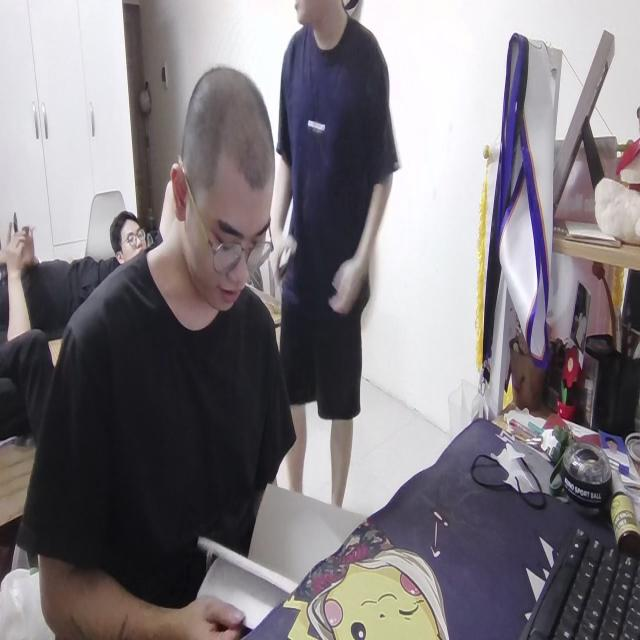book: (192, 473, 358, 622)
extra_person: (268, 0, 400, 538), (109, 210, 158, 268)
student: (38, 63, 300, 640)
